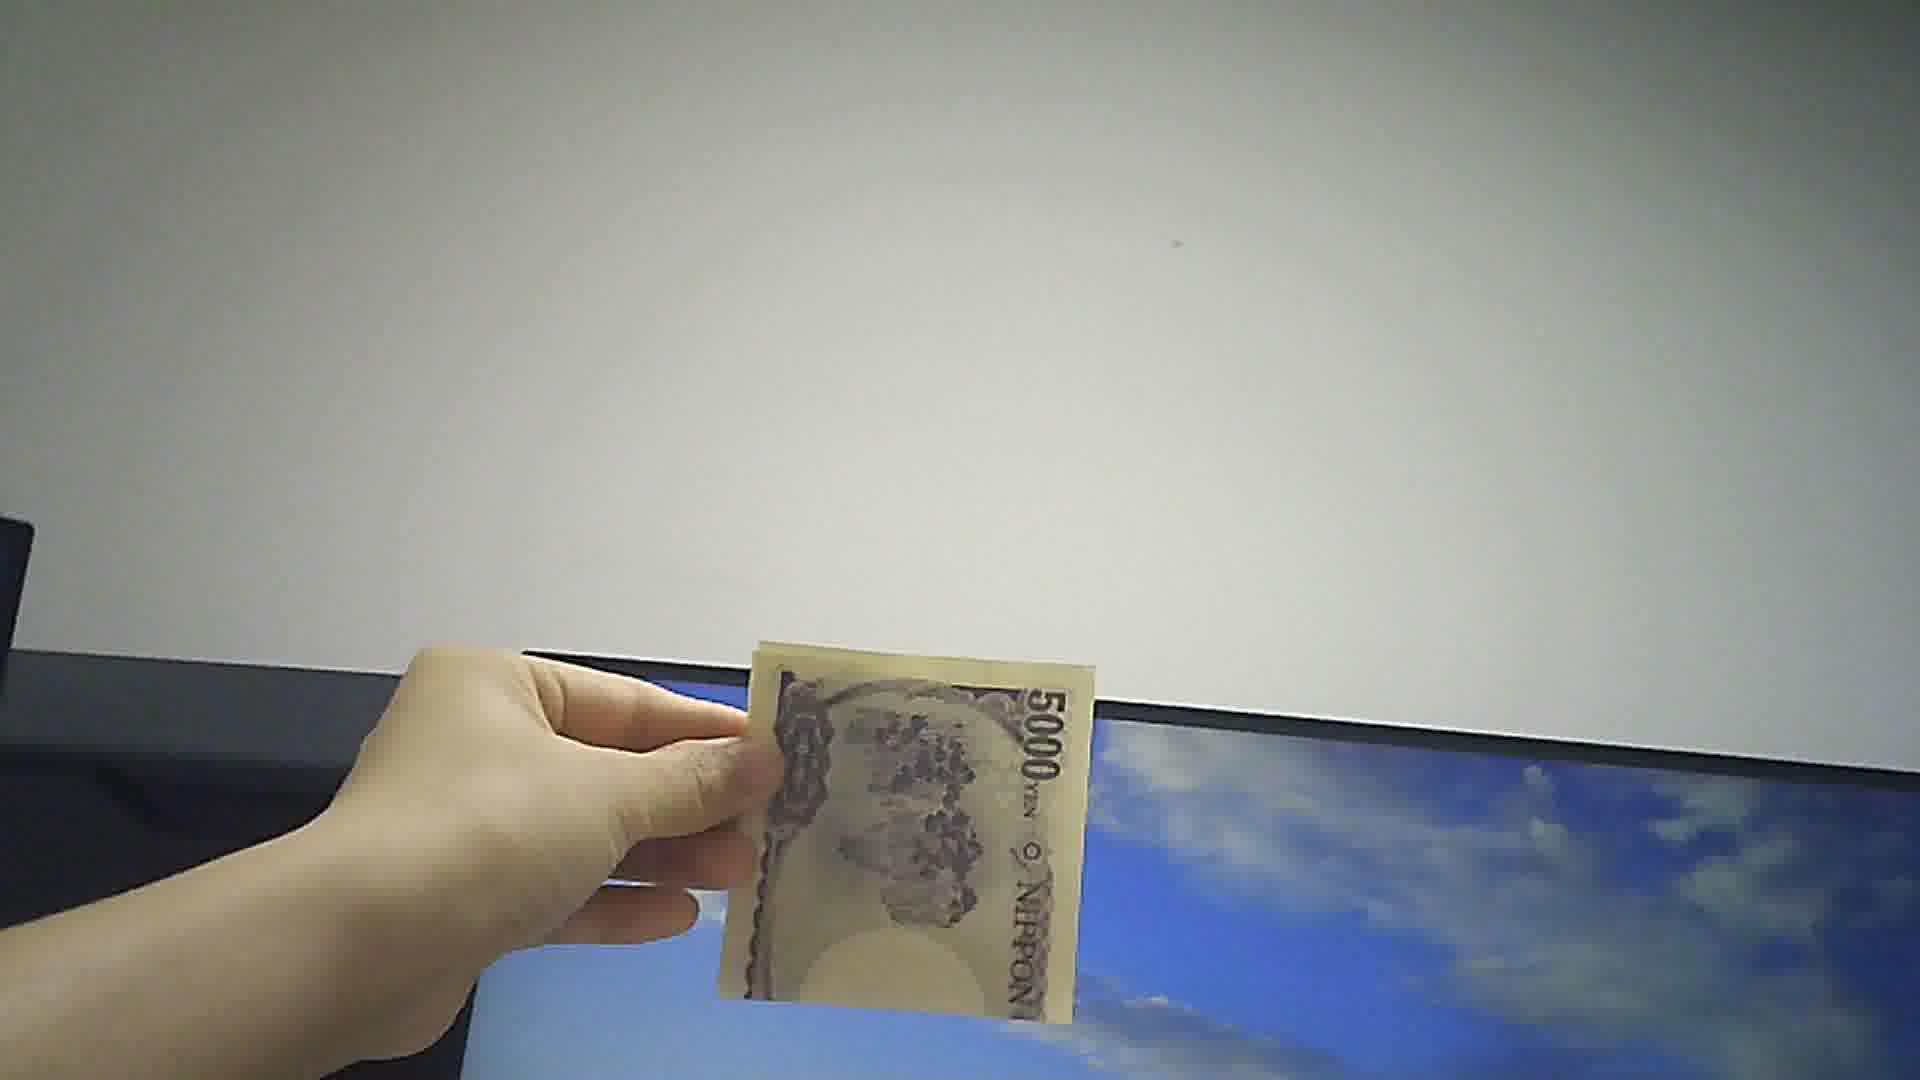5,000 Yen: (705, 633, 1112, 1048)
